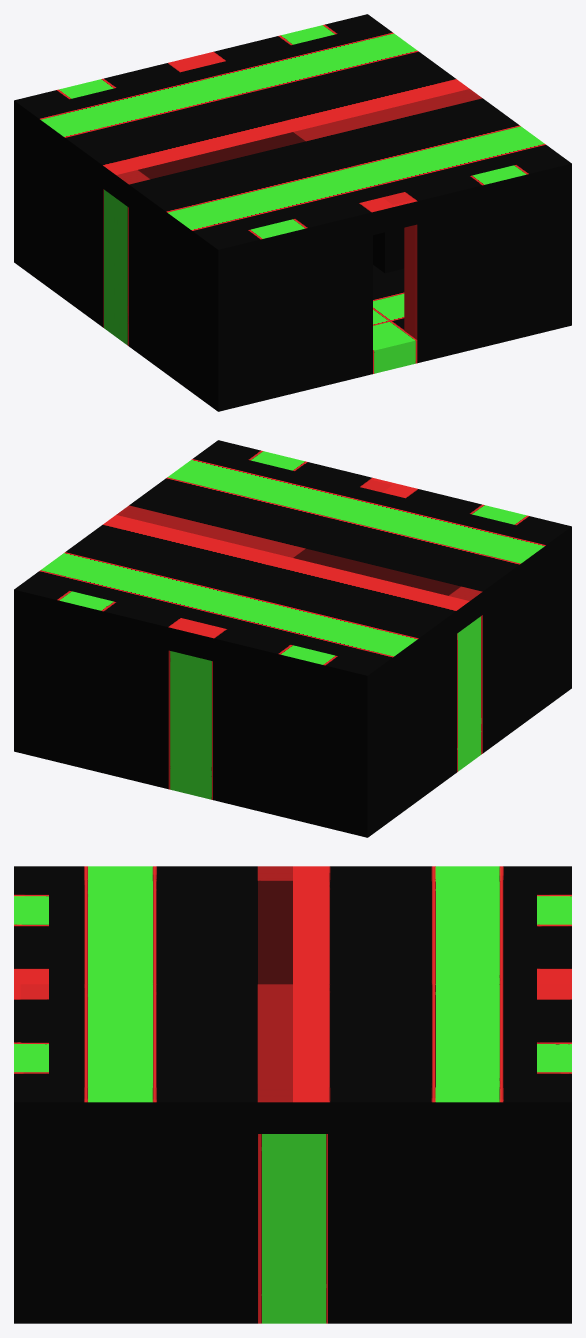
Rendered from Room2.dae.
3 views of the same model, one above another, from view 1: azimuth 30°, elevation 25°; view 2: azimuth 150°, elevation 25°; view 3: azimuth 270°, elevation 25° (orthographic). The views are drawn at different scales.
Visible parts, largest first — view 1: Plane; view 2: Plane; view 3: Plane.
Part boxes in pixels (box(x1,y1,x2,y2)): Plane: box(14, 14, 571, 411); Plane: box(14, 440, 571, 837); Plane: box(14, 866, 571, 1323).
Size of the model in its own units: 16 by 16 by 7.
Materials: 1 (1 with a texture image).
